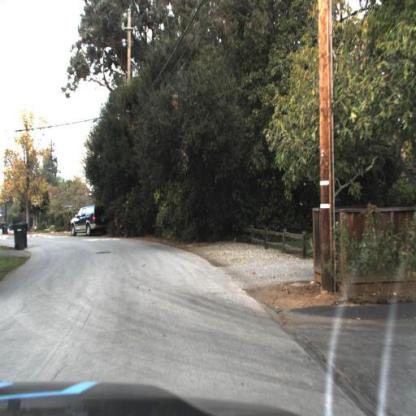car: (66, 202, 110, 242)
